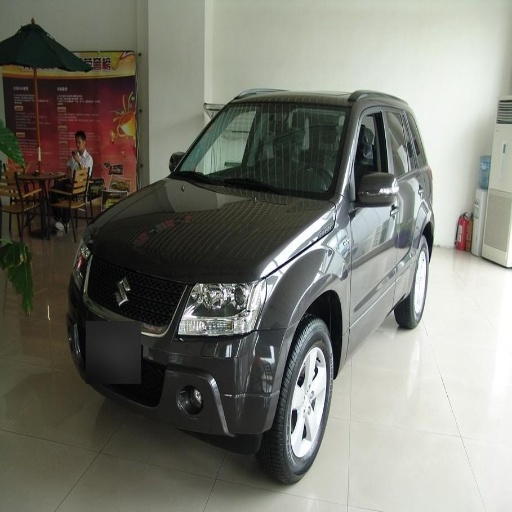front_bumper: (72, 255, 291, 434)
front_glass: (174, 100, 348, 199)
front_left_door: (351, 101, 394, 324)
